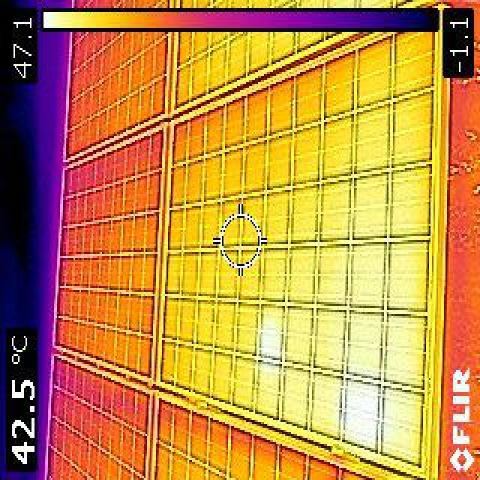fault: (340, 378, 386, 448), (259, 306, 285, 361)
